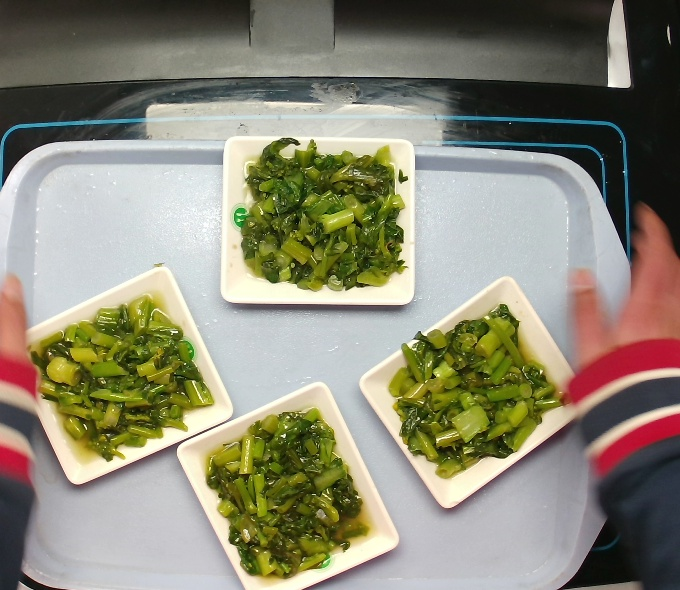wcq-YouCaiHua: (229, 134, 414, 300), (34, 287, 205, 465), (391, 308, 568, 475), (205, 406, 370, 577)
